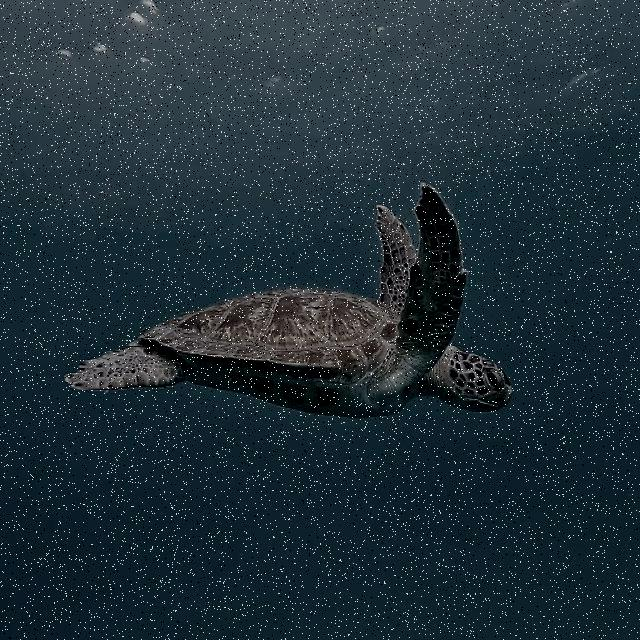tortoise: (71, 182, 506, 432)
